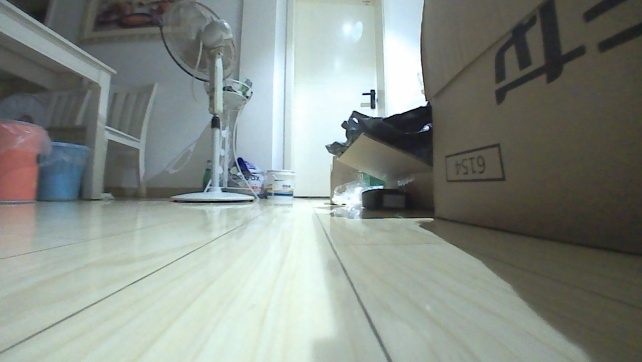chair_base: (167, 182, 257, 205)
dining_table: (0, 0, 159, 204)
door: (279, 0, 389, 201)
wire: (187, 32, 210, 110)
